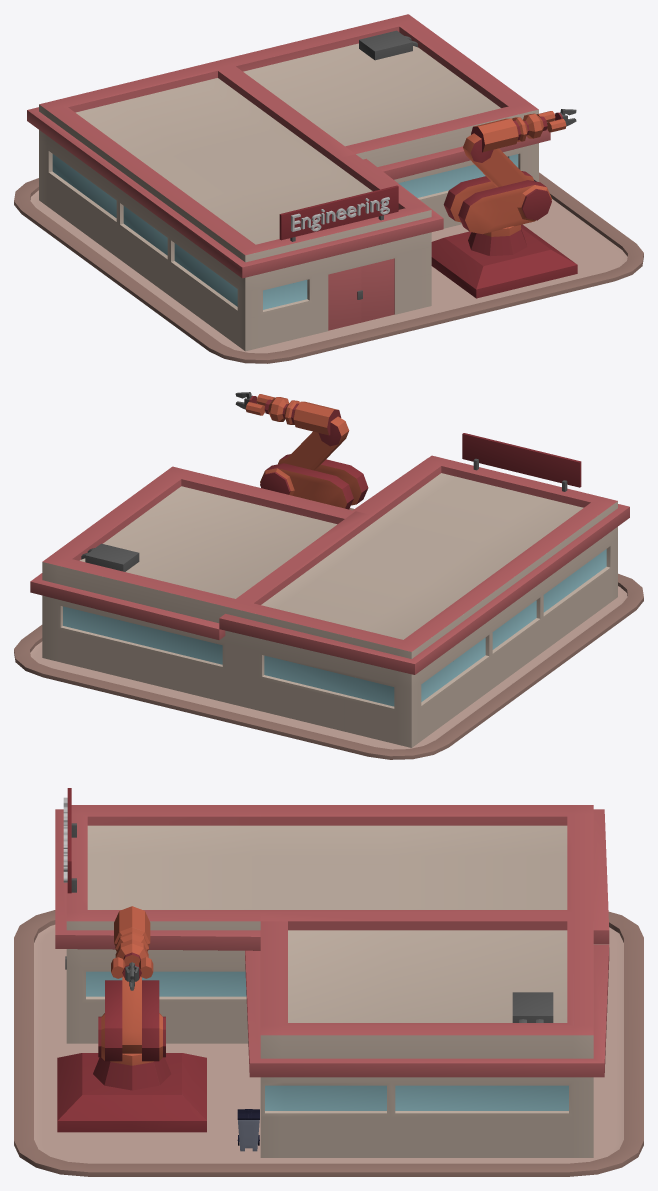
The model's file is Engenharia_Level_01.fbx.
The picture shows the model from 3 angles, top to bottom: view 1: azimuth 30°, elevation 25°; view 2: azimuth 150°, elevation 25°; view 3: azimuth 270°, elevation 25°; orthographic projection. The views are drawn at different scales.
Visible parts, largest first — view 1: Campus_Engenharia_Nivel_01.004; view 2: Campus_Engenharia_Nivel_01.004; view 3: Campus_Engenharia_Nivel_01.004.
Boxes of the visible parts, x1=… form: Campus_Engenharia_Nivel_01.004: x1=14, y1=14, x2=643, y2=363; Campus_Engenharia_Nivel_01.004: x1=14, y1=392, x2=643, y2=759; Campus_Engenharia_Nivel_01.004: x1=14, y1=788, x2=643, y2=1176.
Bounding box in the file's own units: 2000 × 639 × 2000.
